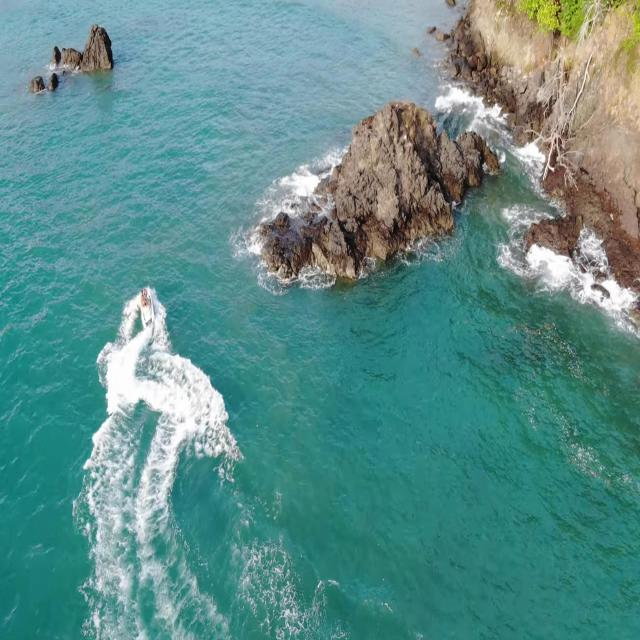boat: (138, 285, 156, 325)
